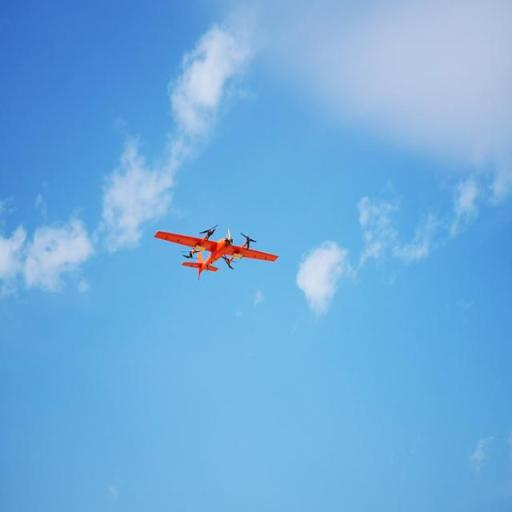uav: (153, 212, 279, 298)
